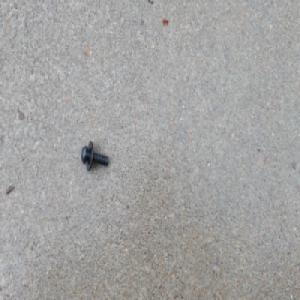BoltWasher: (80, 139, 109, 173)
